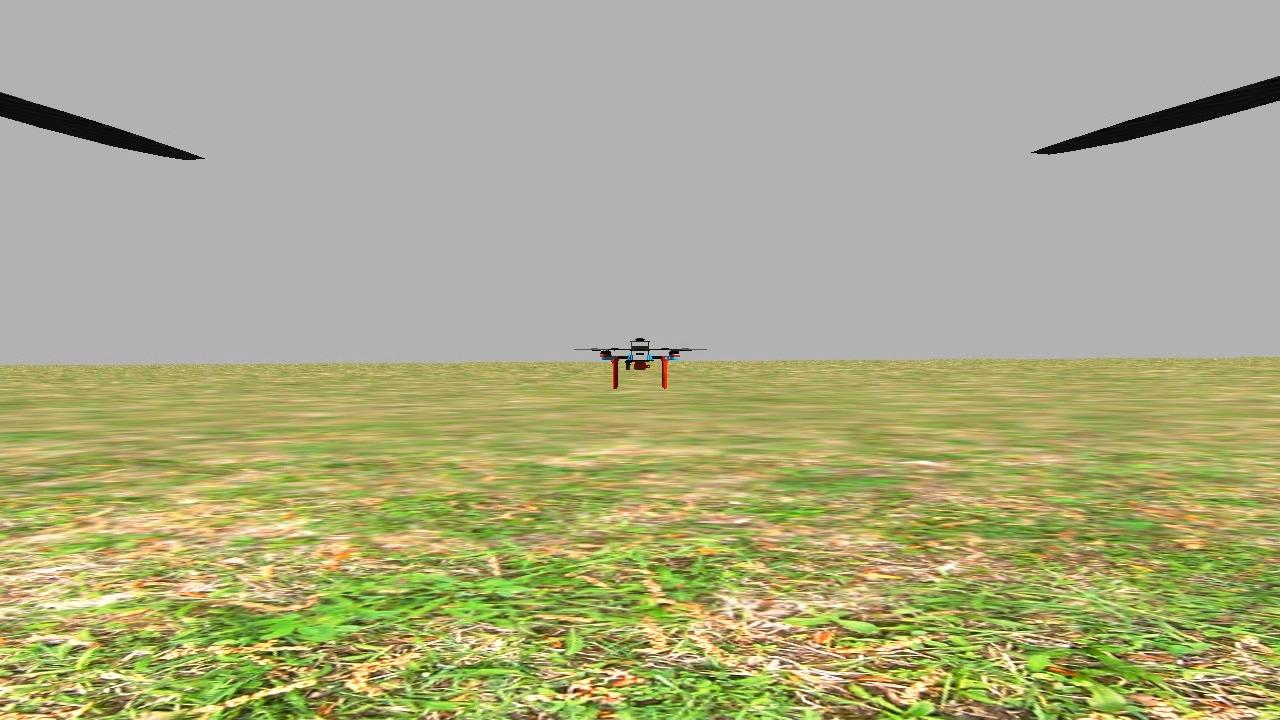UAV: (584, 327, 695, 402)
